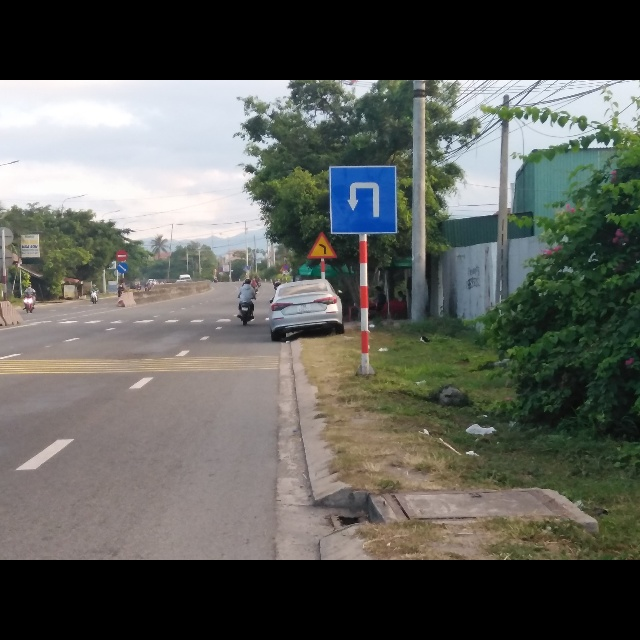Khu vực quay đầu xe: (329, 161, 400, 235)
